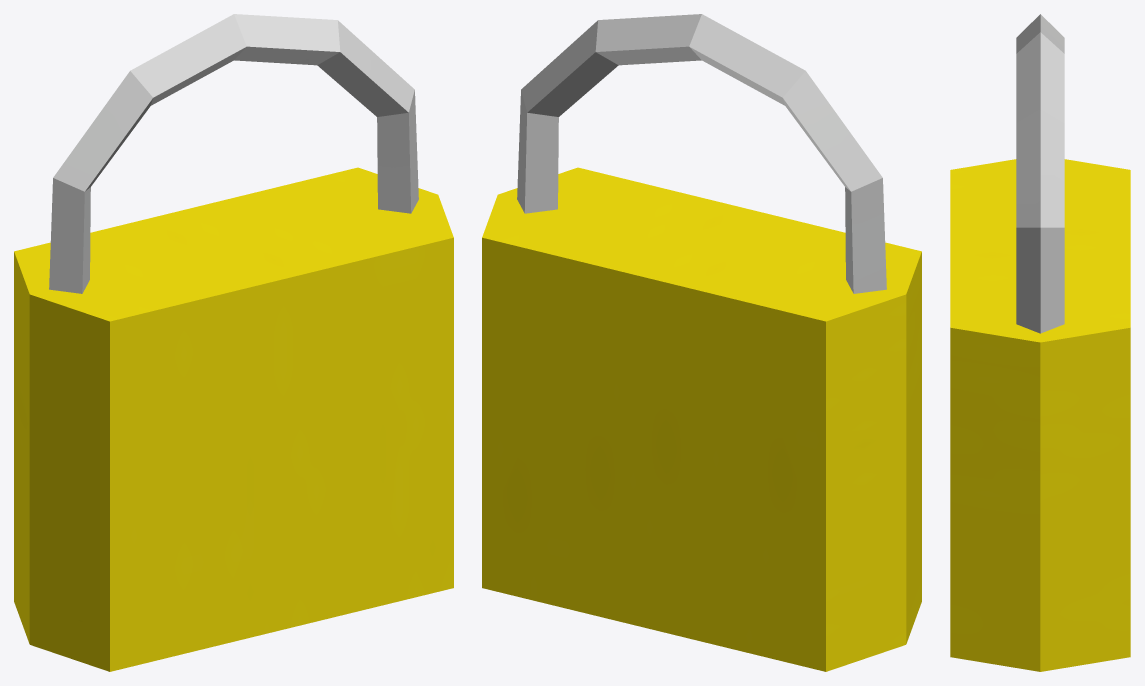
File: Lock.fbx
The picture shows the model from 3 angles, left to right: view 1: azimuth 30°, elevation 25°; view 2: azimuth 150°, elevation 25°; view 3: azimuth 270°, elevation 25°; orthographic projection. The views are drawn at different scales.
Parts seen in each view (by area): view 1: Lock; view 2: Lock; view 3: Lock.
Part boxes in pixels (left/top/right/bottom): Lock: left=14, top=14, right=453, bottom=671; Lock: left=482, top=14, right=921, bottom=671; Lock: left=950, top=14, right=1130, bottom=671.
Size of the model in its own units: 12.91 by 17.55 by 5.25.
